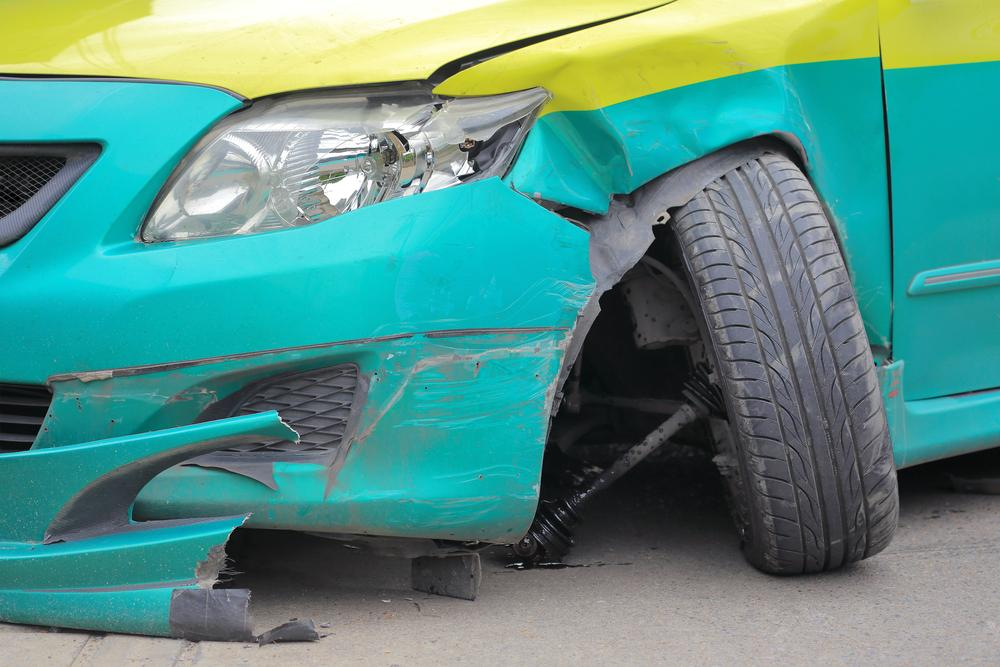dent: (512, 0, 892, 234)
lamp broken: (142, 87, 539, 243)
scratch: (366, 280, 596, 462)
